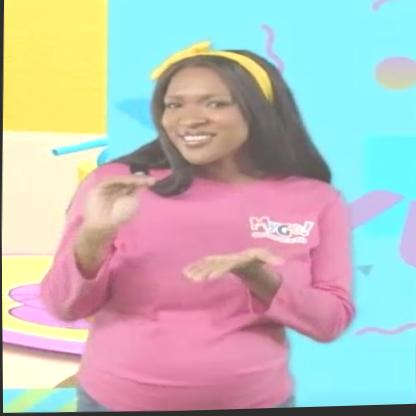ExcuseMe: (62, 155, 286, 296)
